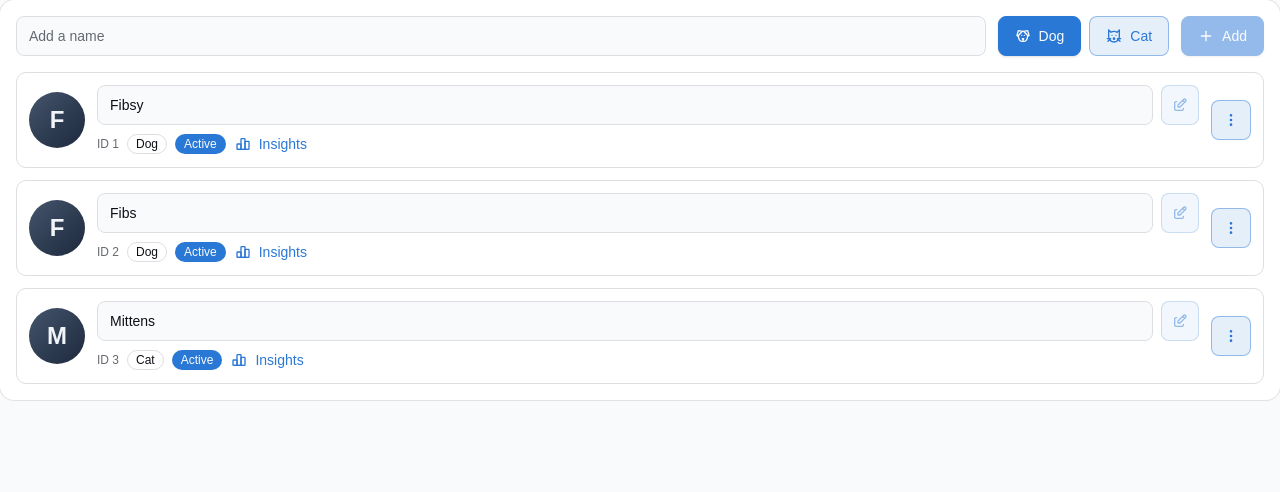
Scenario: DogManagementCard deactivate › cancels back without deactivating
This screenshot has width=1280, height=492.
Expected: the field showing "Fibsy" is shown, top-left (97, 85), bottom-right (1153, 125)
Step 1. Click the button named "More actions for Fibsy" → {"x": 1231, "y": 120}, box top-left (1211, 100), bottom-right (1251, 140)
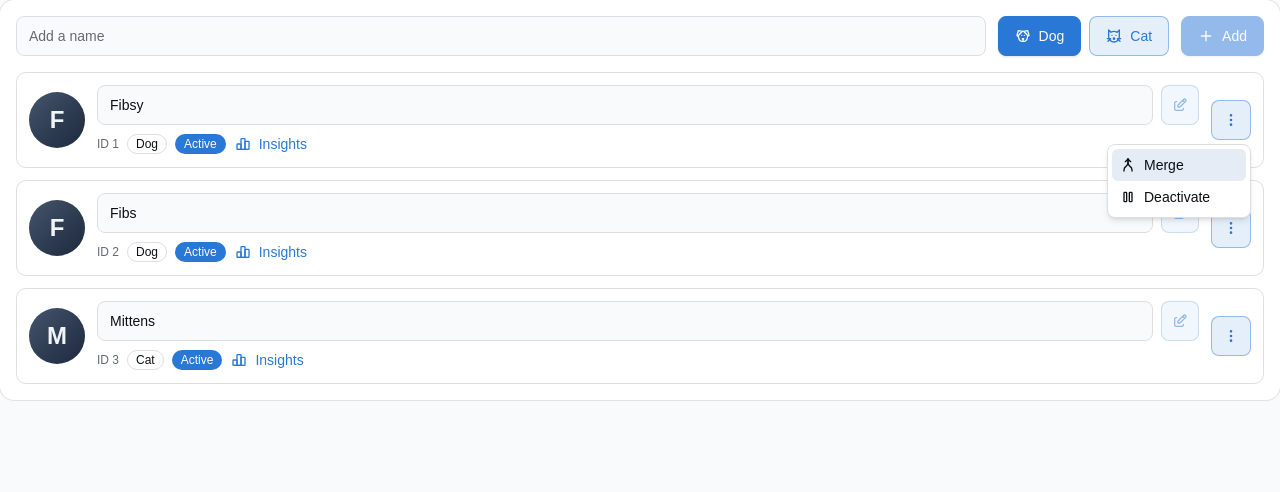
Step 2. Click the menu item "Deactivate" → {"x": 1165, "y": 197}, box top-left (1120, 189), bottom-right (1210, 205)
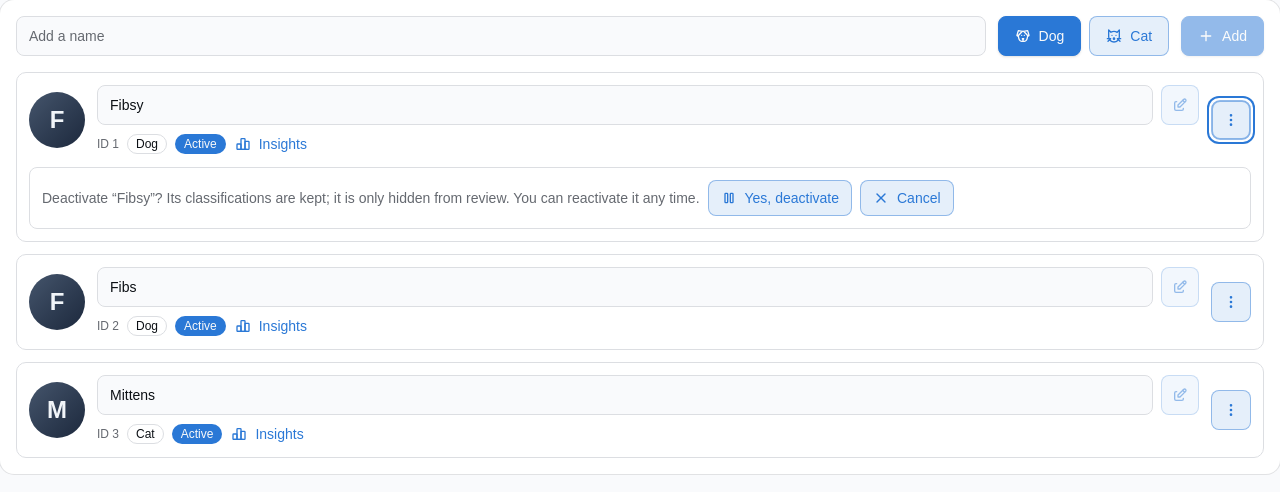
Step 3. Click the button "Cancel" → {"x": 907, "y": 198}, box top-left (860, 180), bottom-right (954, 216)
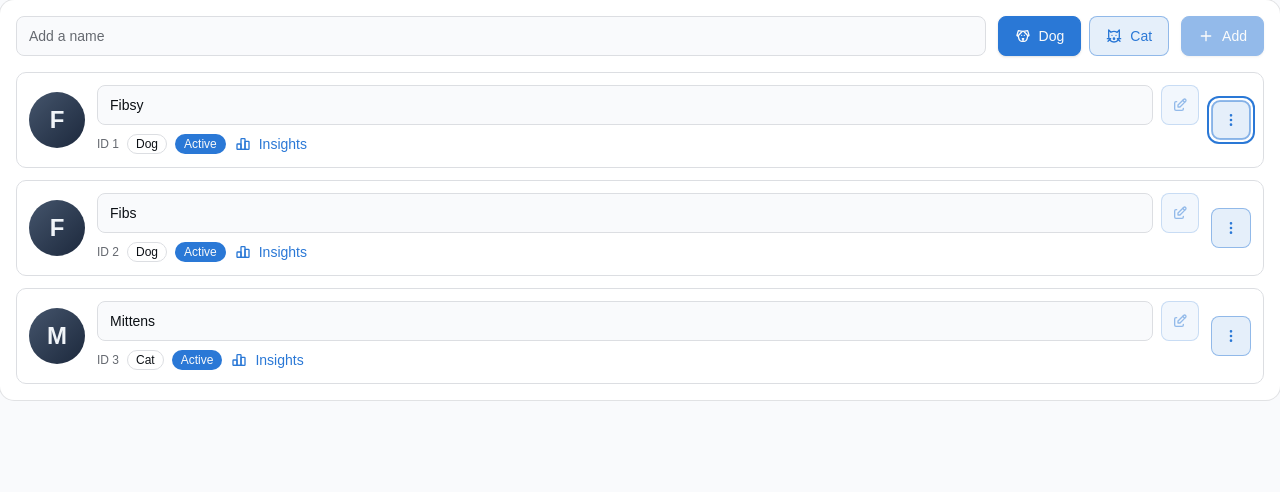
Expected: the button "Yes, deactivate" is gone
